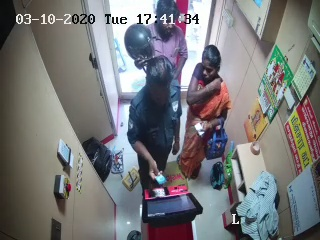helmet: (125, 23, 159, 67)
